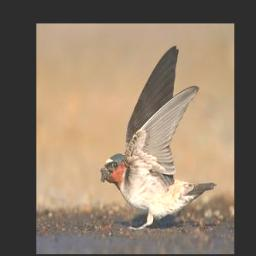Swallow: (100, 44, 217, 232)
